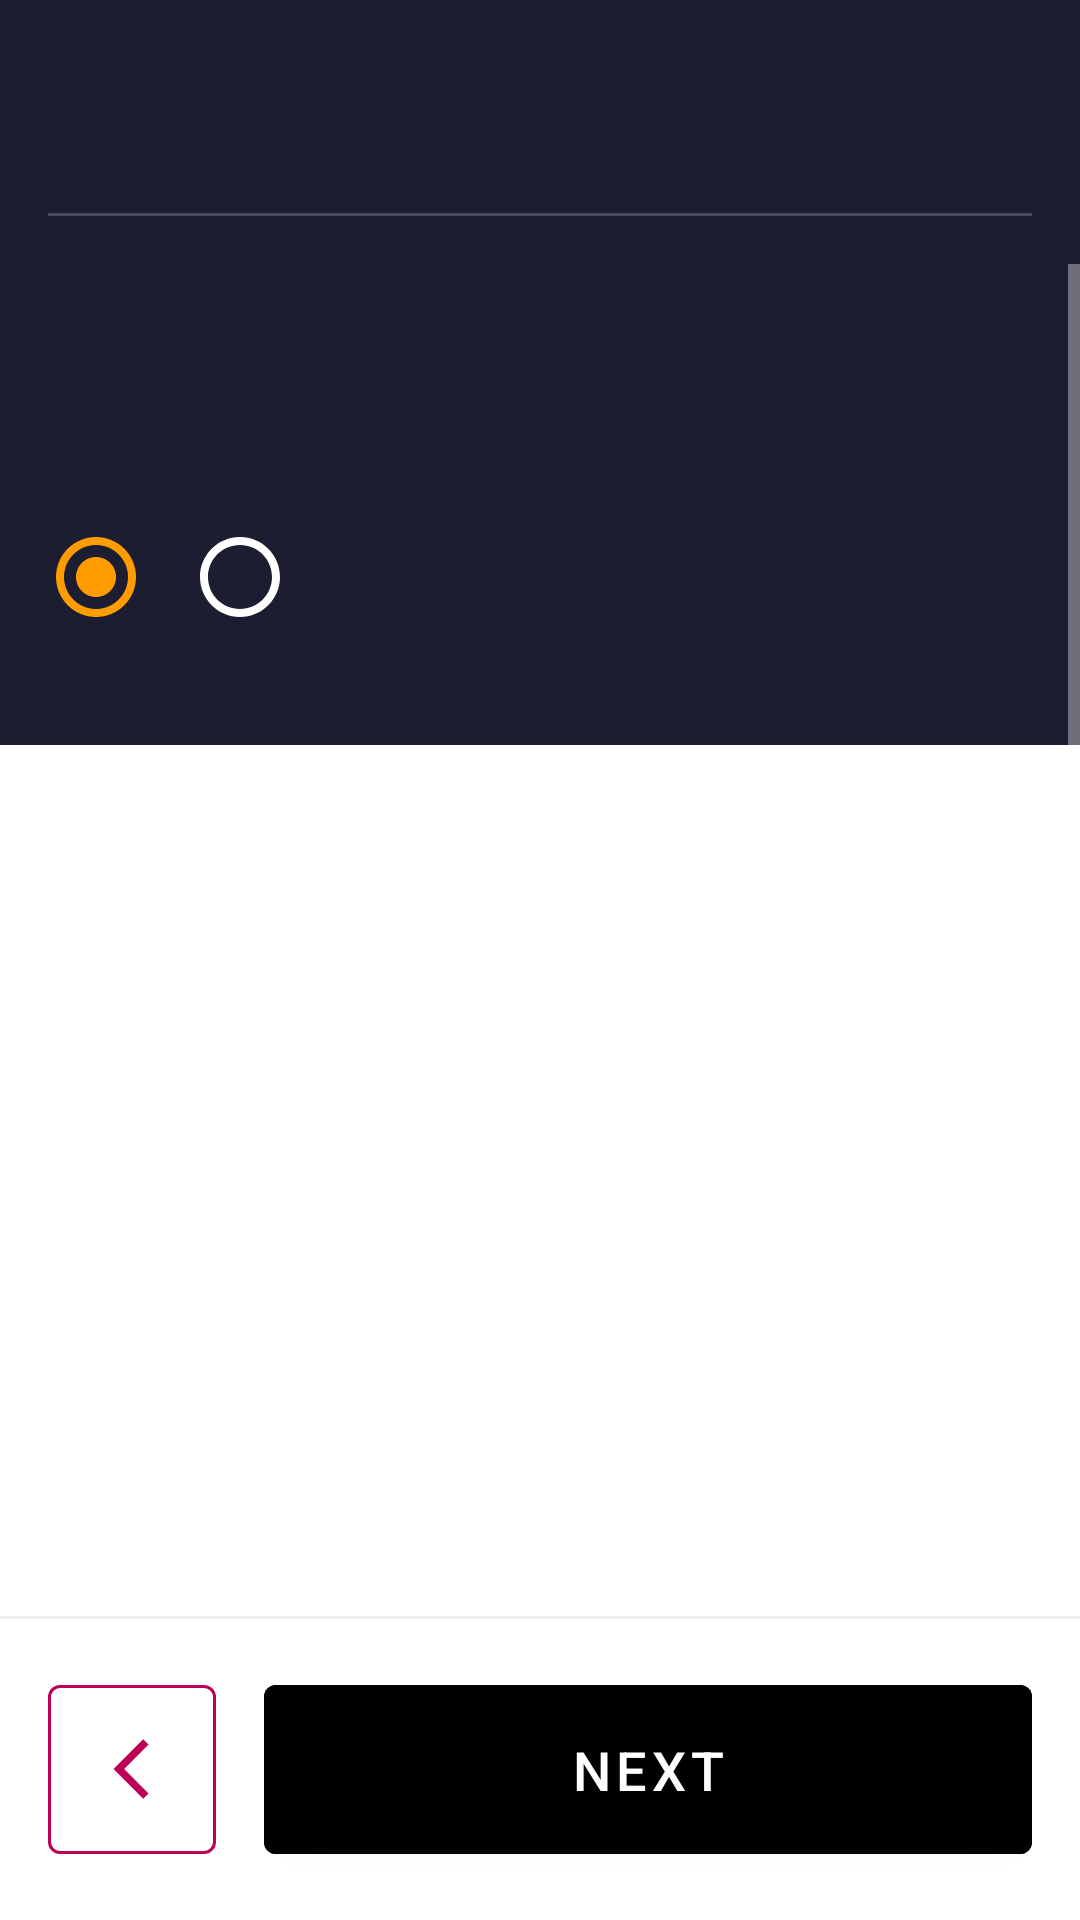

Where icons sit on this 1080px×1920px app screen, as [x1=x1, y1=y1, x2=x2, y2=y2]:
arrow back: [x1=48, y1=1685, x2=216, y2=1854]
circle: [x1=56, y1=537, x2=136, y2=617], [x1=200, y1=537, x2=280, y2=617]
